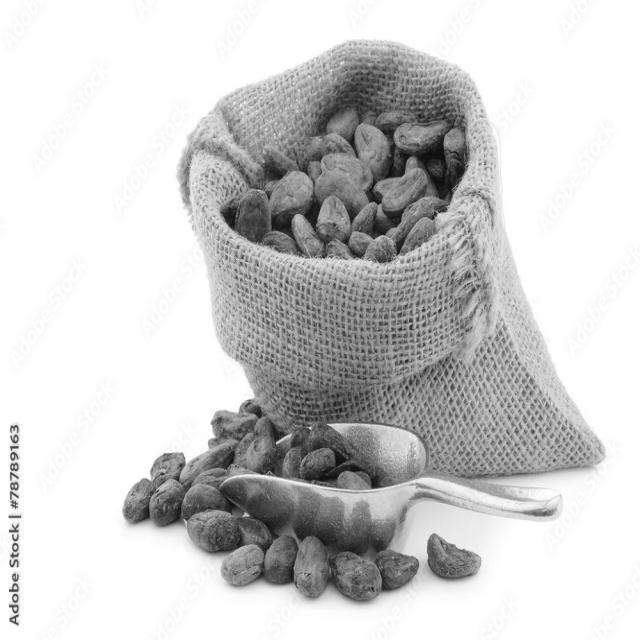sack: (178, 40, 605, 479)
